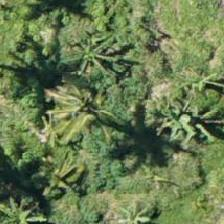coconut_tree: (36, 61, 126, 151), (0, 170, 58, 223)
